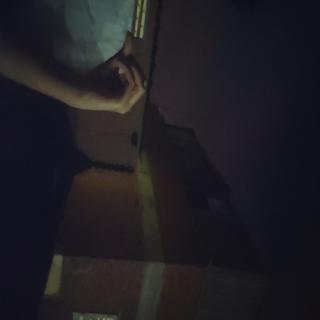WAW: (20, 225, 89, 320)
